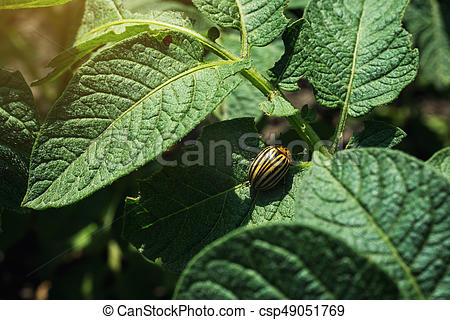hrosc: (244, 141, 296, 195)
